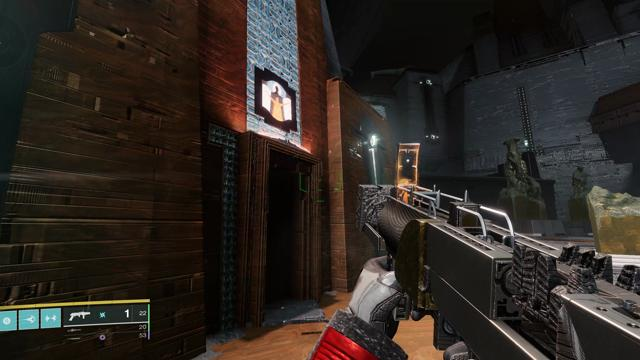worship: (262, 81, 291, 121)
